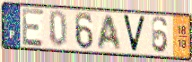0: (48, 9, 69, 49)
6: (74, 11, 95, 51), (151, 15, 169, 56)
A: (96, 14, 123, 51)
E: (21, 7, 45, 48)
V: (121, 13, 148, 55)
